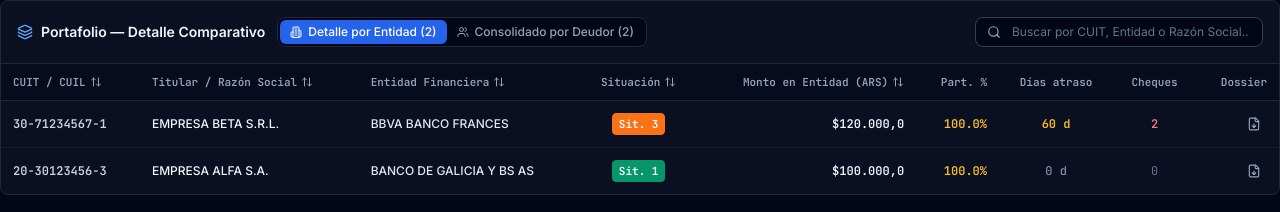
Batch Portfolio Components › renders PortfolioTable with debtor rows and sorts columns
Expected: the text "EMPRESA ALFA S.A." is shown, [140,148,359,194]
Expected: the text "EMPRESA BETA S.R.L." is shown, [140,100,359,148]
Note: Search filter
Type "BETA" into the field with placeholder "Buscar por CUIT, Entidad o Razón Social...". click: [1119, 32]
box: [975,17,1263,47]
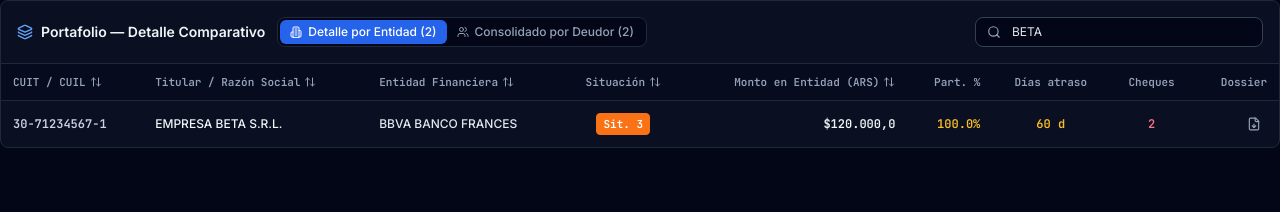
Expected: the text "EMPRESA BETA S.R.L." is shown, [143,100,367,147]
Result: the text "EMPRESA ALFA S.A." is gone
